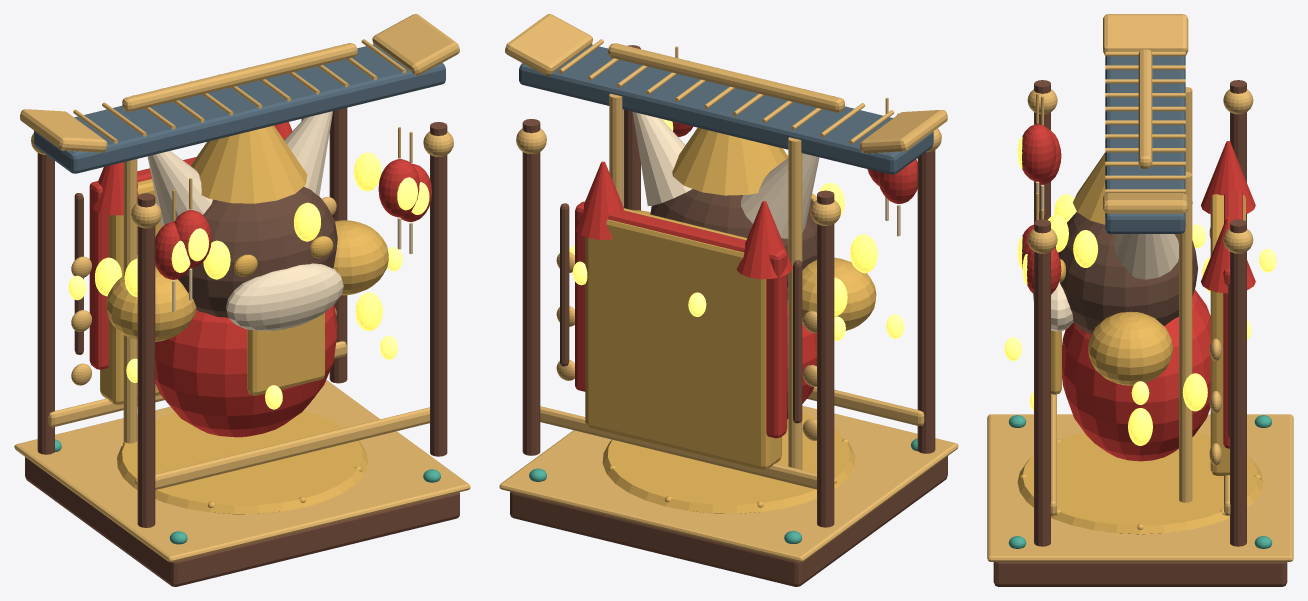
The model's file is flagship-2048-king.glb.
3 views of the same model, side by side, from view 1: azimuth 30°, elevation 25°; view 2: azimuth 150°, elevation 25°; view 3: azimuth 270°, elevation 25° (orthographic). The views are drawn at different scales.
Parts seen in each view (by area): view 1: carved golden plinth edge, gold filigree rim, black lacquer exhibition plinth, ceramic tiled eave, ox emperor torso, broad muzzle, carved walnut plinth, translucent red lantern, floating royal ember, warm lantern wick; view 2: gold filigree rim, carved golden plinth edge, black lacquer exhibition plinth, ceramic tiled eave, translucent red lantern, broad muzzle, ox emperor torso, carved walnut plinth, floating royal ember, warm lantern wick; view 3: carved golden plinth edge, gold filigree rim, black lacquer exhibition plinth, ox emperor torso, ceramic tiled eave, carved walnut plinth, translucent red lantern, floating royal ember, broad muzzle, warm lantern wick, corner jade stud.
Boxes of the visible parts, x1,y1,x2,y2 form: carved golden plinth edge: (14,14,470,562); gold filigree rim: (100,125,388,513); black lacquer exhibition plinth: (25,108,459,586); ceramic tiled eave: (34,44,445,173); ox emperor torso: (89,122,337,437); broad muzzle: (147,111,343,330); carved walnut plinth: (178,186,337,514); translucent red lantern: (89,157,431,369); floating royal ember: (95,152,382,330); warm lantern wick: (68,177,429,409); gold filigree rim: (585,127,876,513); carved golden plinth edge: (499,14,958,562); black lacquer exhibition plinth: (510,45,947,586); ceramic tiled eave: (519,44,933,174); translucent red lantern: (575,121,917,438); broad muzzle: (632,112,819,238); ox emperor torso: (575,161,816,419); carved walnut plinth: (650,189,816,513); floating royal ember: (662,119,877,316); warm lantern wick: (569,245,904,340); carved golden plinth edge: (987,14,1293,561); gold filigree rim: (1017,152,1263,534); black lacquer exhibition plinth: (993,80,1287,586); ox emperor torso: (1062,141,1255,461); ceramic tiled eave: (1105,56,1185,233); carved walnut plinth: (1058,212,1198,534); translucent red lantern: (1022,124,1243,448); floating royal ember: (1048,194,1210,445); broad muzzle: (1033,234,1178,331); warm lantern wick: (1004,136,1276,411); corner jade stud: (1008,415,1272,548).
Size of the model in its own units: 1.8 by 1.83 by 1.22.
